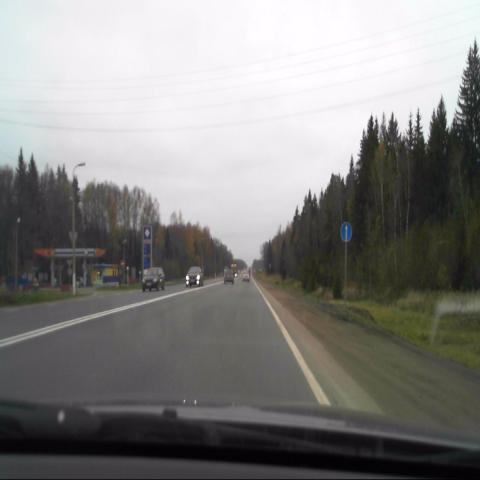4_1_1: (340, 221, 352, 242)
